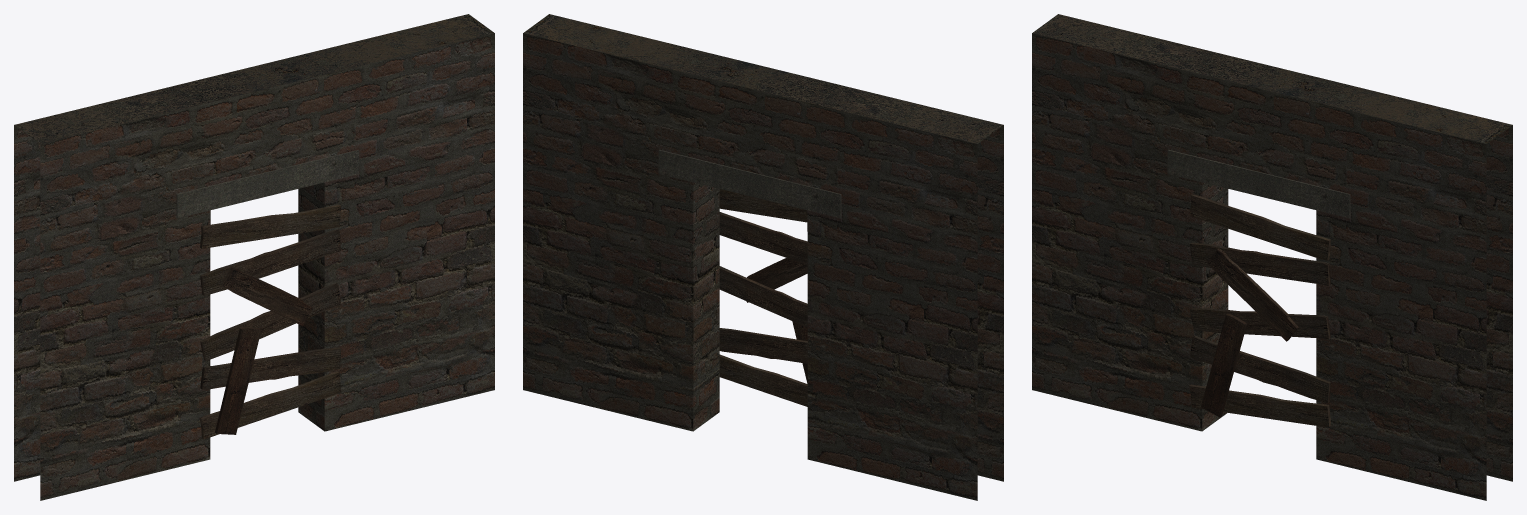
The model's file is doorway_hr_3_regular.glb.
3 views of the same model, side by side, from view 1: azimuth 30°, elevation 25°; view 2: azimuth 150°, elevation 25°; view 3: azimuth 330°, elevation 25° (orthographic).
Visible parts, largest first — view 1: doorway_hr_3_regular; view 2: doorway_hr_3_regular; view 3: doorway_hr_3_regular.
Boxes of the visible parts, x1,y1,x2,y2 form: doorway_hr_3_regular: (14,14,494,500); doorway_hr_3_regular: (523,14,1003,500); doorway_hr_3_regular: (1032,14,1512,500).
Size of the model in its own units: 4 by 3 by 0.47.
Materials: 4 (4 with a texture image).
